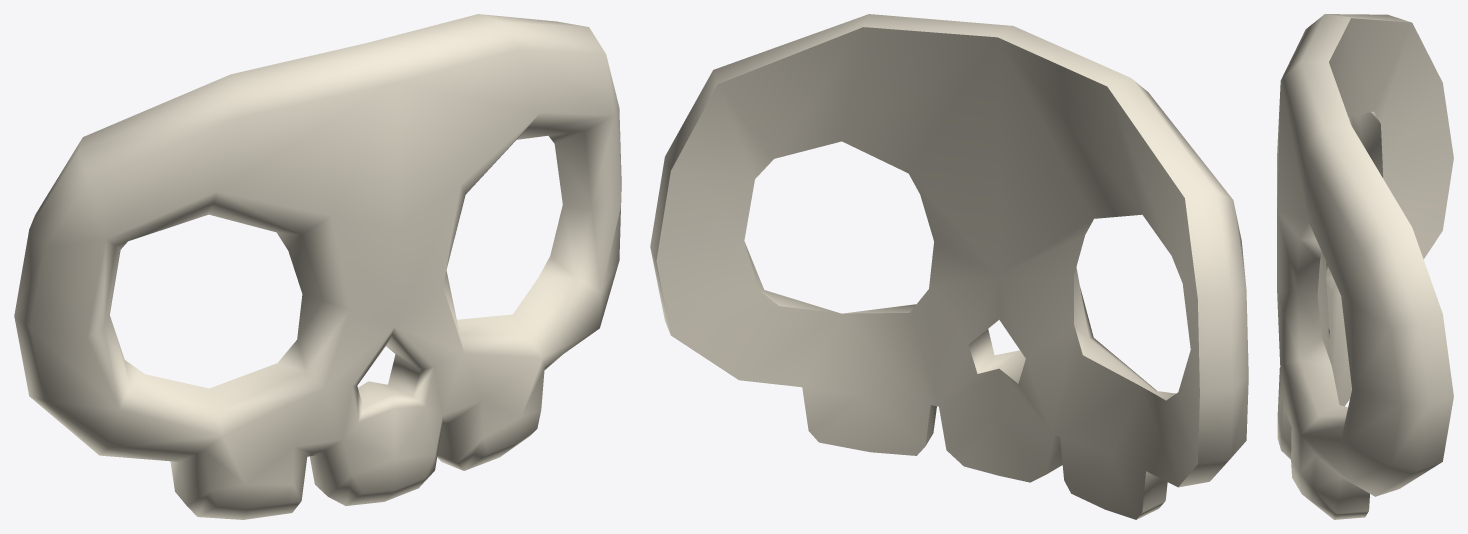
File: Eyewear_18.fbx
3 views of the same model, side by side, from view 1: azimuth 30°, elevation 25°; view 2: azimuth 150°, elevation 25°; view 3: azimuth 270°, elevation 25° (orthographic). The views are drawn at different scales.
Visible parts, largest first — view 1: Eyewear_18; view 2: Eyewear_18; view 3: Eyewear_18.
Boxes of the visible parts, x1,y1,x2,y2 form: Eyewear_18: (14,14,621,519); Eyewear_18: (650,14,1248,519); Eyewear_18: (1277,14,1453,519).
Bounding box in the file's own units: 65.96 × 47.58 × 19.31.
